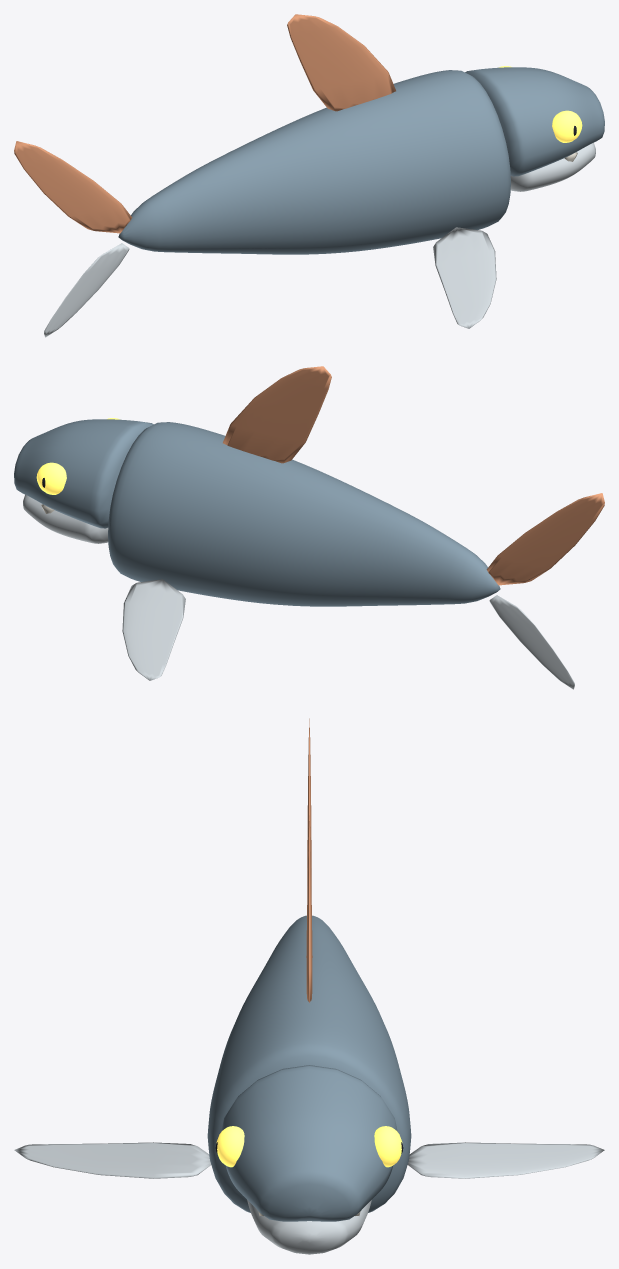
Rendered from shark_placoderm.glb.
3 renders of one model, top to bottom at view 1: azimuth 30°, elevation 25°; view 2: azimuth 150°, elevation 25°; view 3: azimuth 270°, elevation 25°, orthographic. The views are drawn at different scales.
Parts seen in each view (by area): view 1: Placoderm_Torso, CranialArmor, DorsalFin, TailTopLobe, PectoralFin_R, TailBottomLobe, ShearingJaw, Eye_R; view 2: Placoderm_Torso, CranialArmor, DorsalFin, TailTopLobe, PectoralFin_L, TailBottomLobe, ShearingJaw, Eye_L; view 3: Placoderm_Torso, CranialArmor, PectoralFin_L, PectoralFin_R, ShearingJaw, DorsalFin, Eye_L, Eye_R.
Boxes of the visible parts, x1,y1,x2,y2 form: Placoderm_Torso: (118, 70, 510, 254); CranialArmor: (465, 67, 604, 176); DorsalFin: (287, 14, 395, 111); TailTopLobe: (14, 141, 132, 233); PectoralFin_R: (433, 227, 496, 328); TailBottomLobe: (44, 243, 129, 337); ShearingJaw: (510, 142, 595, 191); Eye_R: (552, 110, 582, 142); Placoderm_Torso: (108, 422, 500, 606); CranialArmor: (14, 419, 153, 528); DorsalFin: (223, 366, 331, 463); TailTopLobe: (486, 493, 604, 585); PectoralFin_L: (122, 579, 185, 680); TailBottomLobe: (489, 595, 574, 689); ShearingJaw: (23, 494, 108, 543); Eye_L: (36, 462, 66, 494); Placoderm_Torso: (207, 915, 411, 1212); CranialArmor: (221, 1065, 397, 1221); PectoralFin_L: (407, 1142, 604, 1178); PectoralFin_R: (14, 1142, 211, 1178); ShearingJaw: (247, 1200, 371, 1254); DorsalFin: (306, 815, 312, 1002); Eye_L: (374, 1126, 402, 1167); Eye_R: (216, 1126, 244, 1167).
Bounding box in the file's own units: 2.74 × 1.18 × 1.93.
